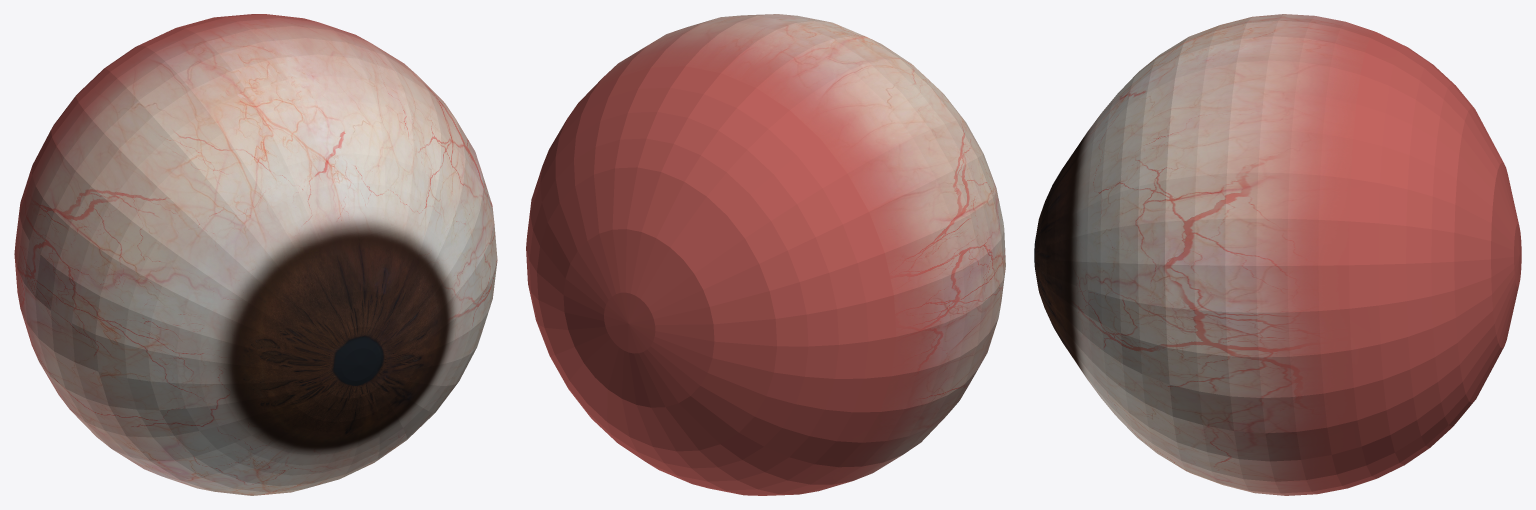
Rendered from eyeRight_mesh_tri.obj.
3 views of the same model, side by side, from view 1: azimuth 30°, elevation 25°; view 2: azimuth 150°, elevation 25°; view 3: azimuth 270°, elevation 25° (orthographic).
Size of the model in its own units: 0.2898 by 0.2885 by 0.2919.
1 material, 1 textured.
